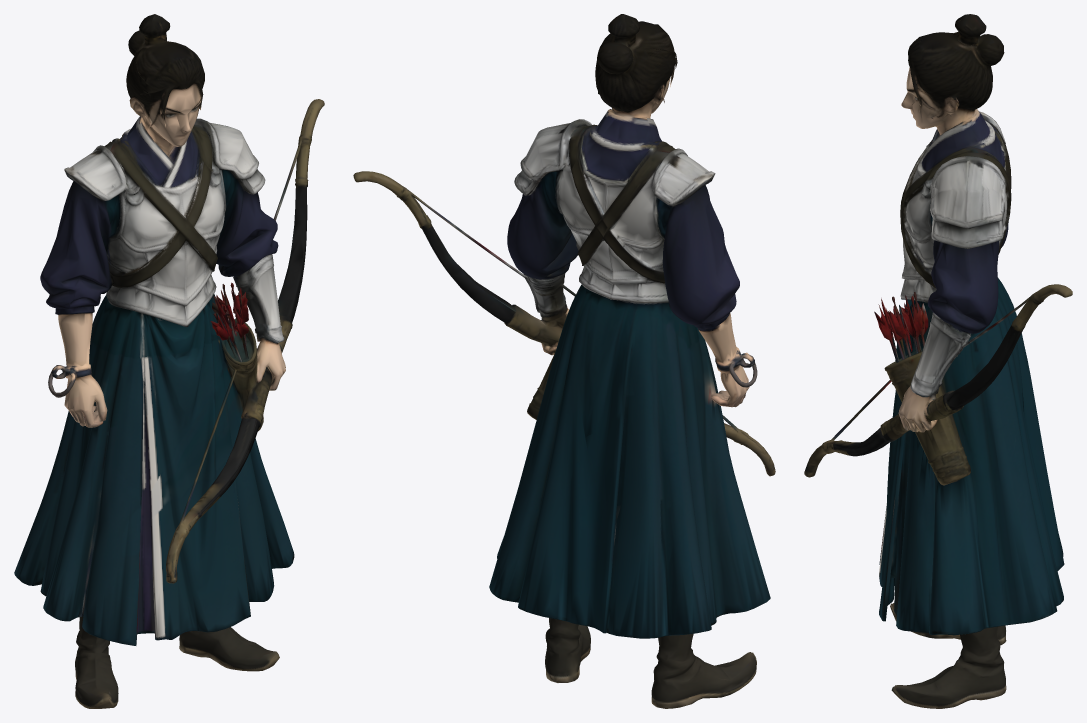
Rendered from hua_rong_ai.glb.
3 renders of one model, left to right at view 1: azimuth 30°, elevation 25°; view 2: azimuth 150°, elevation 25°; view 3: azimuth 270°, elevation 25°, orthographic. The views are drawn at different scales.
Parts seen in each view (by area): view 1: node_0; view 2: node_0; view 3: node_0.
Part boxes in pixels (x1=…): node_0: x1=14, y1=14, x2=324, y2=708; node_0: x1=353, y1=14, x2=775, y2=708; node_0: x1=804, y1=14, x2=1072, y2=708.
Bounding box in the file's own units: 0.6002 × 1.1 × 0.4099.
Materials: 1 (1 with a texture image).
